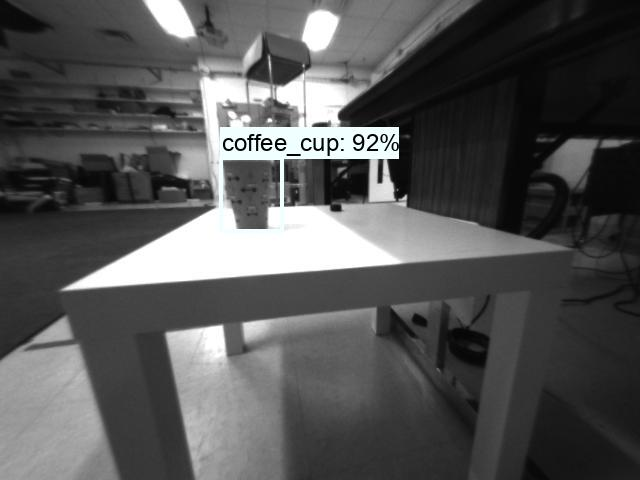coffee_cup: (217, 158, 283, 233)
